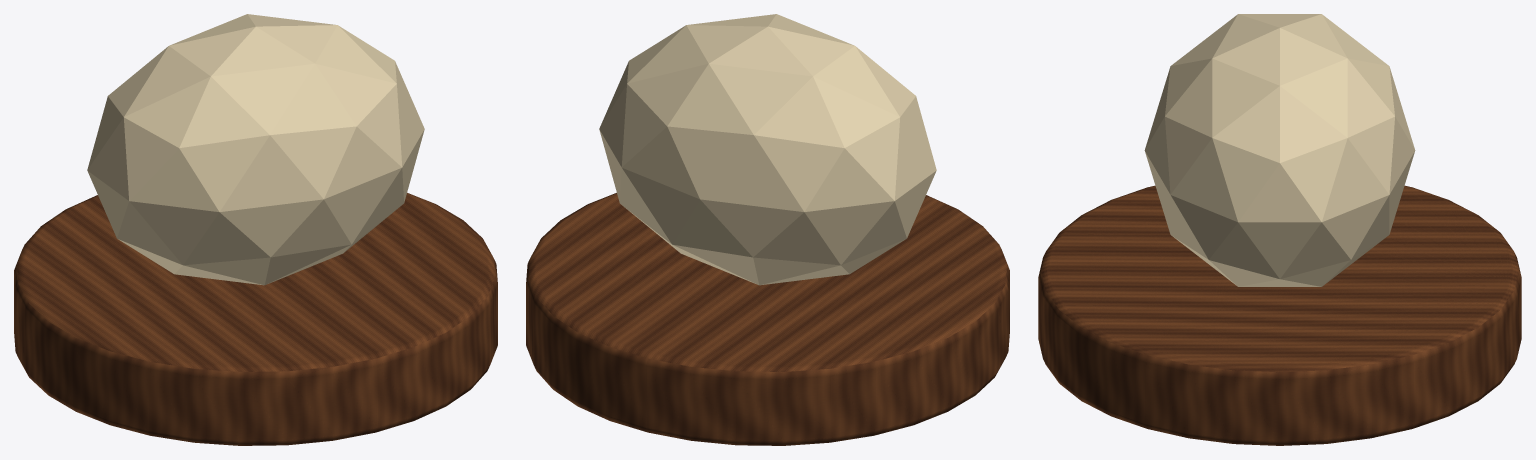
The model's file is Pickup_Stone.fbx.
3 renders of one model, left to right at view 1: azimuth 30°, elevation 25°; view 2: azimuth 150°, elevation 25°; view 3: azimuth 270°, elevation 25°, orthographic.
Parts seen in each view (by area): view 1: Token round plinth.007, Smooth river stone.001; view 2: Token round plinth.007, Smooth river stone.001; view 3: Token round plinth.007, Smooth river stone.001.
Part boxes in pixels (x1,y1,x2,y2): Token round plinth.007: (14,193,497,445); Smooth river stone.001: (87,14,424,285); Token round plinth.007: (526,193,1009,445); Smooth river stone.001: (599,14,936,285); Token round plinth.007: (1038,185,1521,445); Smooth river stone.001: (1144,14,1415,286).
Size of the model in its own units: 0.1 by 0.073 by 0.1.
2 materials, 1 textured.
